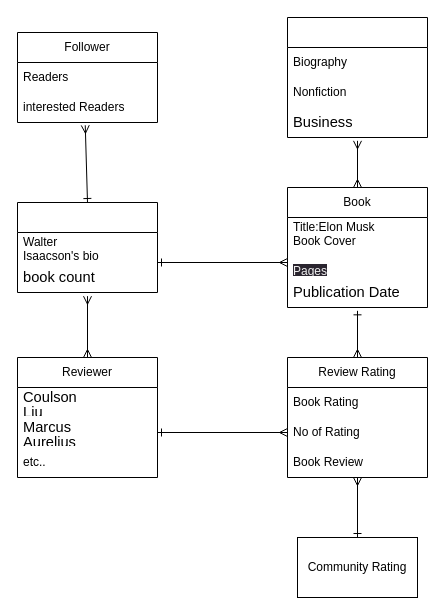
This 445x615 diagram has some shape labels left out. The shapes that lost their labels are listed below. From the top down, each one's box as (x1, y1, x2, y2) in pixels, then its label:
(286, 16, 428, 138): Genre
(16, 202, 158, 292): Author
